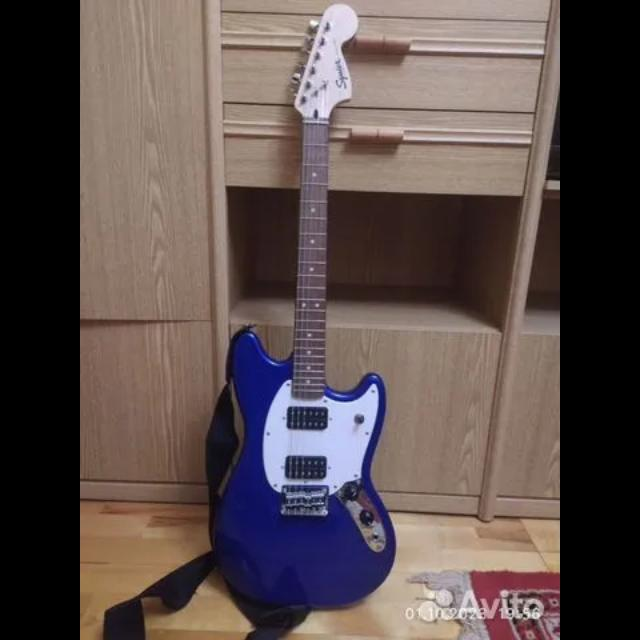Electric-Guitar: (212, 4, 400, 612)
